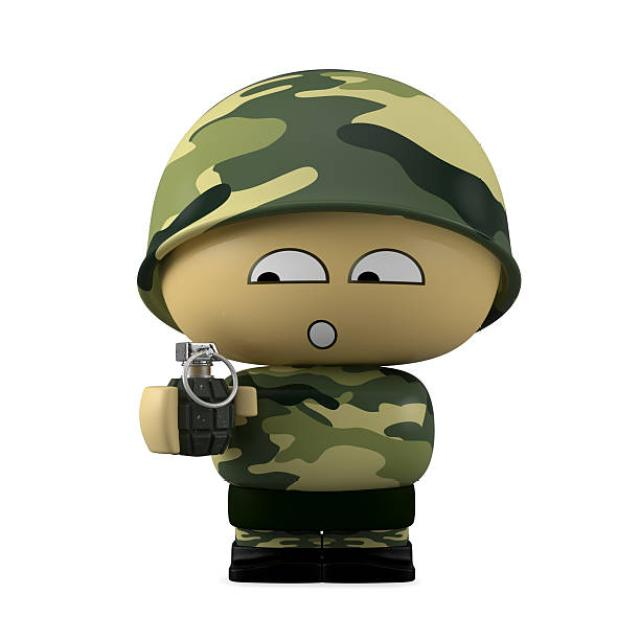grenade: (163, 343, 245, 458)
